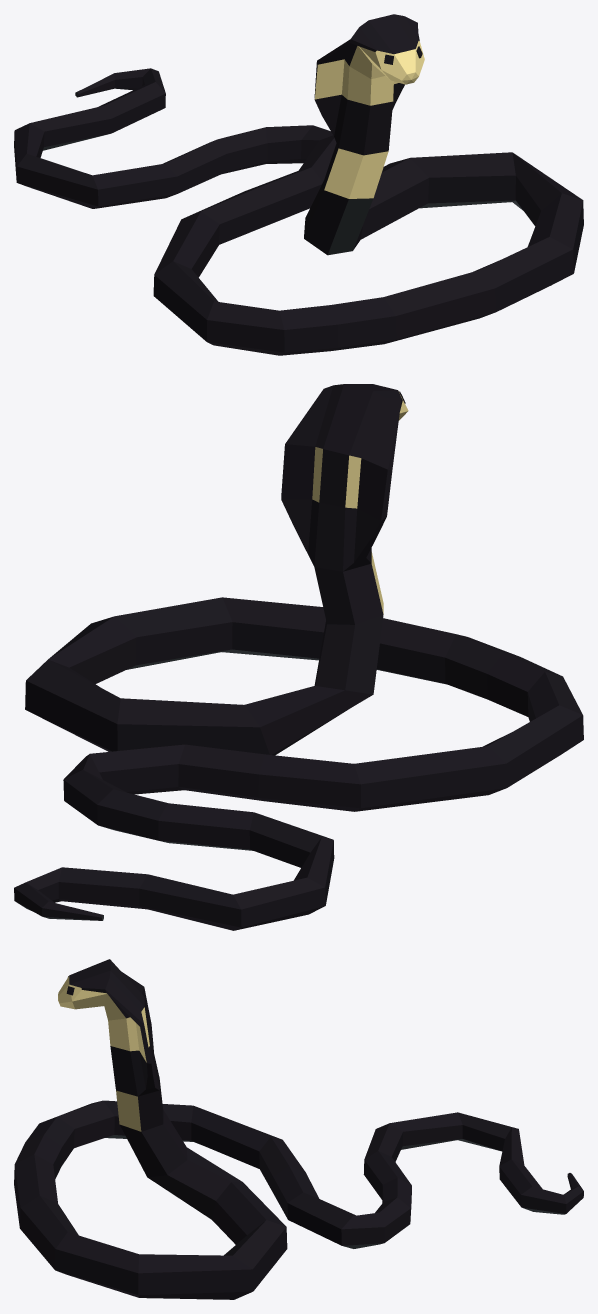
The model's file is e8e9a467-5ffd-45dd-8af8-3e1206ddc314.glb.
3 views of the same model, one above another, from view 1: azimuth 30°, elevation 25°; view 2: azimuth 150°, elevation 25°; view 3: azimuth 270°, elevation 25° (orthographic). The views are drawn at different scales.
Visible parts, largest first — view 1: Geo_Cobra; view 2: Geo_Cobra; view 3: Geo_Cobra.
Boxes of the visible parts, x1,y1,x2,y2 form: Geo_Cobra: (14,14,583,355); Geo_Cobra: (14,384,583,930); Geo_Cobra: (14,959,583,1299).
Bounding box in the file's own units: 42.61 × 28.85 × 59.77.
1 material, 1 textured.
